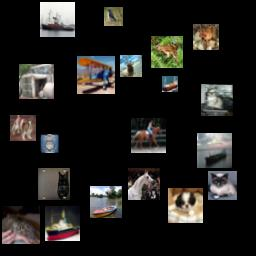airplane: (77, 56, 115, 94)
bird: (104, 7, 123, 26)
cat: (2, 206, 40, 244), (38, 168, 70, 200), (201, 84, 233, 116), (208, 171, 237, 200)
deer: (120, 55, 142, 77)
dog: (168, 188, 203, 223), (10, 115, 36, 141)
frog: (151, 36, 183, 68), (193, 24, 219, 50)
ship: (40, 2, 75, 37), (197, 133, 232, 168), (45, 206, 80, 241), (90, 186, 122, 218), (40, 134, 59, 153), (162, 76, 178, 92)
truck: (19, 64, 54, 99)
